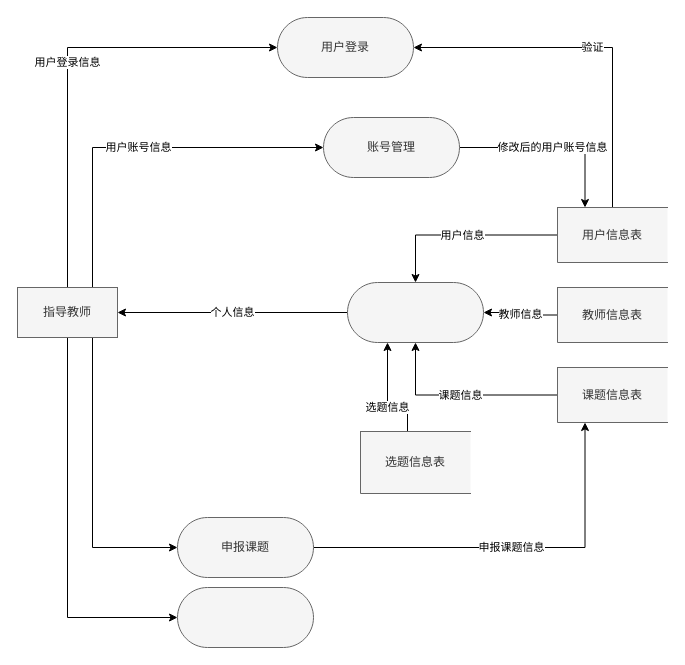
This 685x665 diagram has some shape labels left out. The centre of each missing label's shape, as x and y in pixels:
"下达任务书" belongs at point (245, 617).
"查看个人信息" belongs at point (415, 312).
